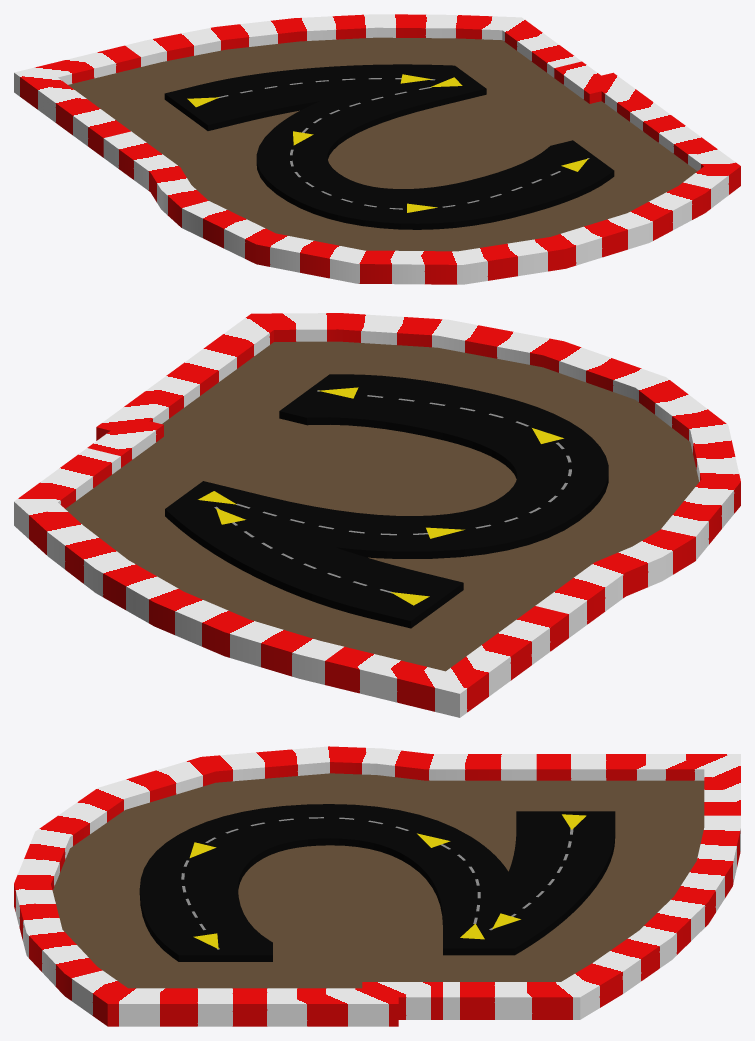
The model's file is hah.FBX.
The picture shows the model from 3 angles, top to bottom: view 1: azimuth 30°, elevation 25°; view 2: azimuth 150°, elevation 25°; view 3: azimuth 270°, elevation 25°; orthographic projection. The views are drawn at different scales.
Parts seen in each view (by area): view 1: 7a2_floor, 7a2_coll, 7a2, line1; view 2: 7a2_floor, 7a2_coll, 7a2, line1; view 3: 7a2_floor, 7a2_coll, 7a2, line1.
Part boxes in pixels (x1=…): 7a2_floor: x1=68, y1=37, x2=697, y2=251; 7a2_coll: x1=14, y1=14, x2=740, y2=284; 7a2: x1=164, y1=64, x2=614, y2=229; line1: x1=290, y1=87, x2=589, y2=209; 7a2_floor: x1=65, y1=341, x2=698, y2=671; 7a2_coll: x1=14, y1=313, x2=740, y2=717; 7a2: x1=165, y1=374, x2=608, y2=628; line1: x1=236, y1=390, x2=571, y2=535; 7a2_floor: x1=52, y1=773, x2=704, y2=988; 7a2_coll: x1=14, y1=746, x2=740, y2=1026; 7a2: x1=139, y1=804, x2=615, y2=961; line1: x1=181, y1=817, x2=480, y2=949.
Bounding box in the file's own units: 800 × 32.77 × 955.
